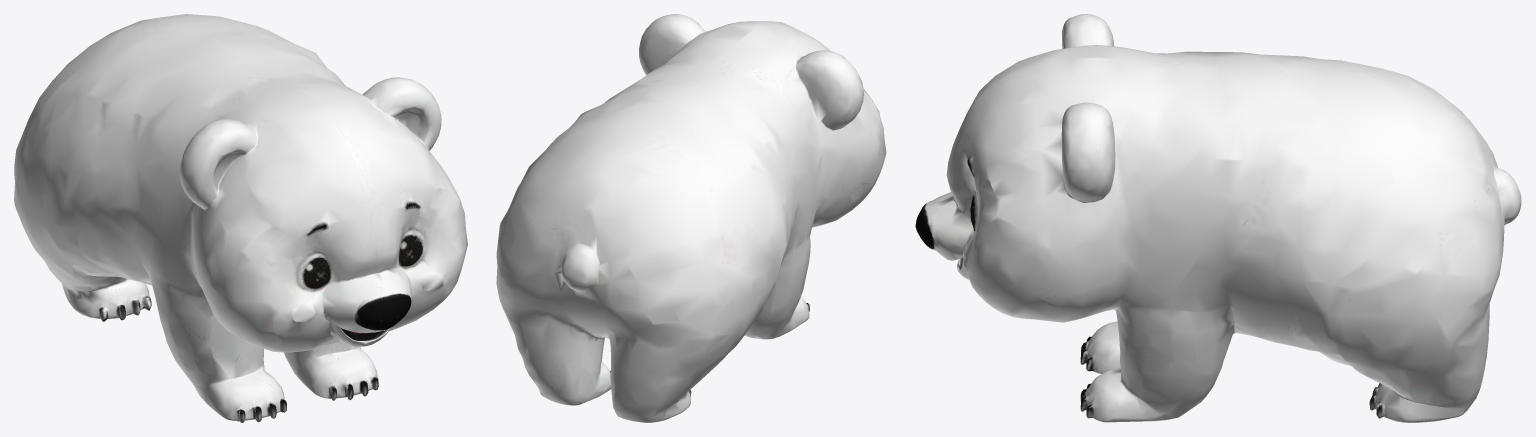
Rendered from polarbear.glb.
The picture shows the model from 3 angles, left to right: view 1: azimuth 30°, elevation 25°; view 2: azimuth 150°, elevation 25°; view 3: azimuth 270°, elevation 25°; orthographic projection. The views are drawn at different scales.
Size of the model in its own units: 1.09 by 1.13 by 1.9.
Materials: 1 (1 with a texture image).
